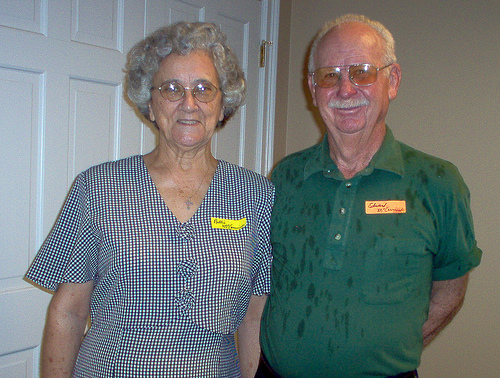without_mask: (303, 30, 401, 138), (144, 55, 228, 154)
